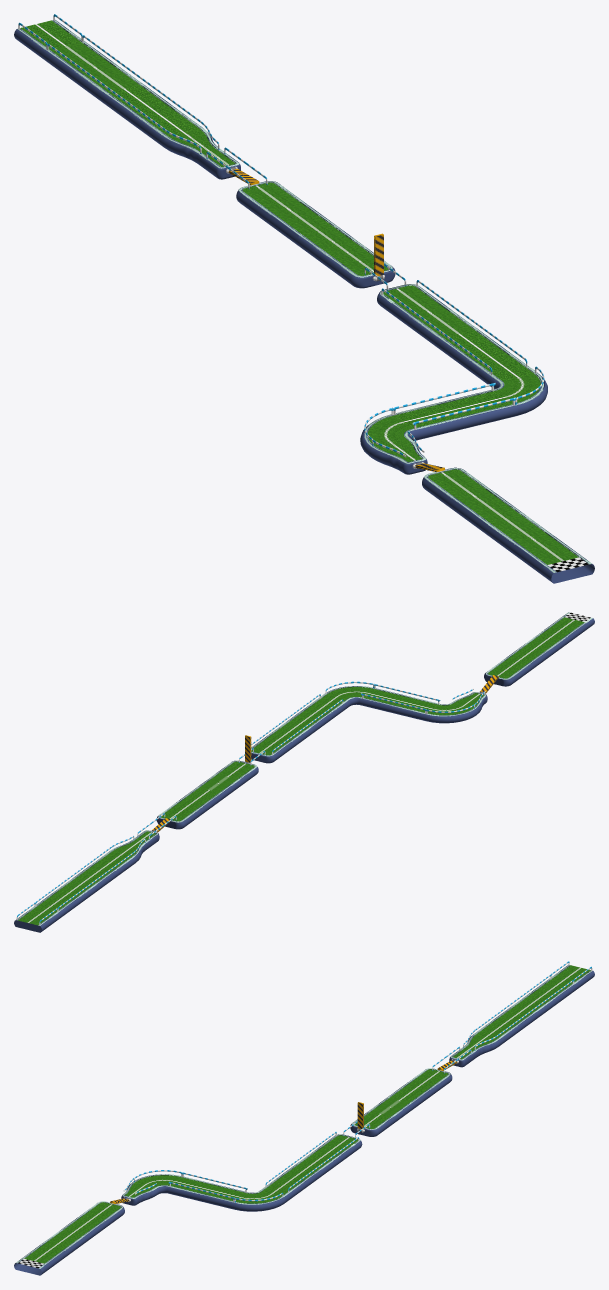
Rendered from map9 1.fbx.
3 renders of one model, top to bottom at view 1: azimuth 30°, elevation 25°; view 2: azimuth 150°, elevation 25°; view 3: azimuth 330°, elevation 25°, orthographic. The views are drawn at different scales.
Visible parts, largest first — view 1: Terrain_Flat_Bar_1_1, Terrain_Flat_2__1_, Terrain_Flat_2, Terrain_Flat_2_1, Terrain_Flat_BarStart_1, Terrain_Flat_Bar_1, Terrain_Flat_BarStart_1_1, Terrain_Flat_BarEnd_2, Terrain_Flat_4, Dummy_Start_1, Terrain_Right_Flat_Bar_2, Terrain_Left_Flat_Bar_2 (+4 smaller); view 2: Terrain_Flat_Bar_1_1, Terrain_Flat_2__1_, Terrain_Flat_2_1, Terrain_Flat_2, Terrain_Flat_BarStart_1_1, Terrain_Flat_Bar_1, Terrain_Flat_BarStart_1, Terrain_Flat_BarEnd_2, Dummy_Start_1, Terrain_Left_Flat_Bar_2, Terrain_Flat_4, Terrain_Flat_5 (+1 smaller); view 3: Terrain_Flat_Bar_1_1, Terrain_Flat_2__1_, Terrain_Flat_2, Terrain_Flat_2_1, Terrain_Flat_BarEnd_2, Terrain_Flat_BarStart_1, Terrain_Flat_Bar_1, Terrain_Flat_BarStart_1_1, Terrain_Right_Flat_Bar_2, Terrain_Flat_4, Dummy_Start_1, Terrain_Left_Flat_Bar_2 (+3 smaller).
Boxes of the visible parts, x1,y1,x2,y2 form: Terrain_Flat_Bar_1_1: (391, 389, 517, 440); Terrain_Flat_2__1_: (482, 513, 584, 576); Terrain_Flat_2: (237, 183, 339, 245); Terrain_Flat_2_1: (423, 470, 525, 532); Terrain_Flat_BarStart_1: (43, 41, 146, 103); Terrain_Flat_Bar_1: (103, 84, 205, 146); Terrain_Flat_BarStart_1_1: (378, 286, 480, 347); Terrain_Flat_BarEnd_2: (437, 329, 539, 389); Terrain_Flat_4: (296, 226, 369, 266); Dummy_Start_1: (14, 20, 87, 59); Terrain_Right_Flat_Bar_2: (494, 373, 547, 415); Terrain_Left_Flat_Bar_2: (360, 414, 415, 455); Terrain_Flat_Bar_1_1: (359, 688, 440, 720); Terrain_Flat_2__1_: (523, 616, 588, 656); Terrain_Flat_2_1: (485, 644, 550, 684); Terrain_Flat_2: (158, 787, 223, 826); Terrain_Flat_BarStart_1_1: (251, 721, 313, 761); Terrain_Flat_Bar_1: (71, 850, 136, 890); Terrain_Flat_BarStart_1: (33, 878, 98, 917); Terrain_Flat_BarEnd_2: (286, 693, 351, 732); Dummy_Start_1: (14, 906, 60, 932); Terrain_Left_Flat_Bar_2: (425, 703, 477, 723); Terrain_Flat_4: (195, 773, 242, 799); Terrain_Flat_5: (215, 762, 257, 784); Terrain_Flat_Bar_1_1: (167, 1176, 248, 1209); Terrain_Flat_2__1_: (20, 1230, 86, 1270); Terrain_Flat_2: (386, 1069, 451, 1109); Terrain_Flat_2_1: (59, 1202, 124, 1242); Terrain_Flat_BarEnd_2: (259, 1163, 323, 1202); Terrain_Flat_BarStart_1: (510, 979, 575, 1018); Terrain_Flat_Bar_1: (472, 1006, 537, 1046); Terrain_Flat_BarStart_1_1: (296, 1136, 361, 1174); Terrain_Right_Flat_Bar_2: (233, 1191, 285, 1211); Terrain_Flat_4: (366, 1097, 413, 1123); Dummy_Start_1: (548, 965, 594, 990); Terrain_Left_Flat_Bar_2: (131, 1174, 181, 1194).
Bounding box in the file's own units: 2412 × 570 × 14176.
10 materials, 9 textured.
